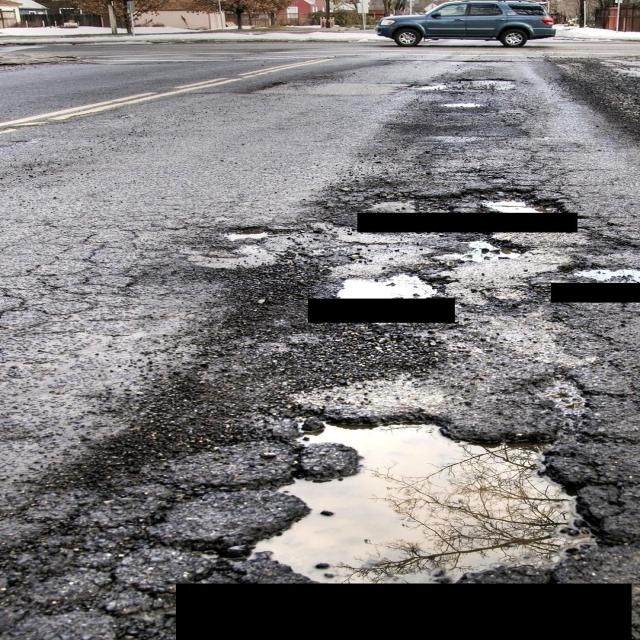road-pothole: (239, 387, 623, 585)
